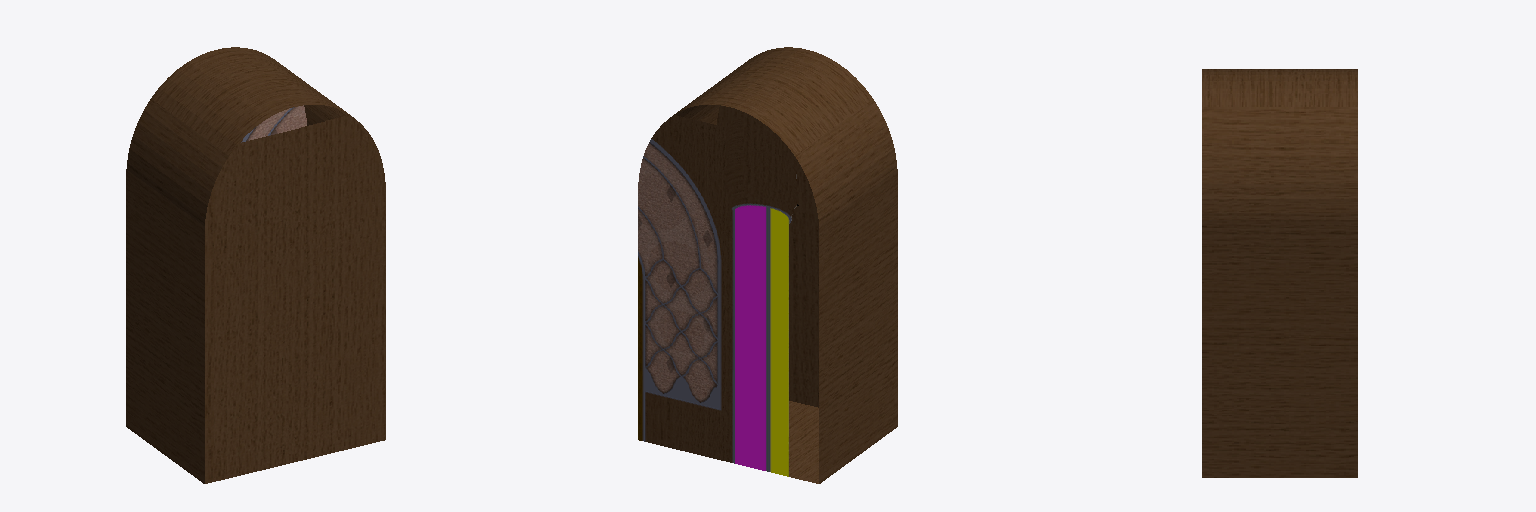
The picture shows the model from 3 angles: view 1: azimuth 30°, elevation 25°; view 2: azimuth 150°, elevation 25°; view 3: azimuth 270°, elevation 25°; orthographic projection.
Visible parts, largest first — view 1: Jukebox_Jukebox_109967-geom.008; view 2: Jukebox_Jukebox_109967-geom.008; view 3: Jukebox_Jukebox_109967-geom.008.
Boxes of the visible parts, box(x1,y1,x2,y2) form: Jukebox_Jukebox_109967-geom.008: box(126, 47, 385, 483); Jukebox_Jukebox_109967-geom.008: box(638, 47, 897, 483); Jukebox_Jukebox_109967-geom.008: box(1202, 69, 1357, 477).
Size of the model in its own units: 8 by 15 by 6.
Materials: 3 (3 with a texture image).